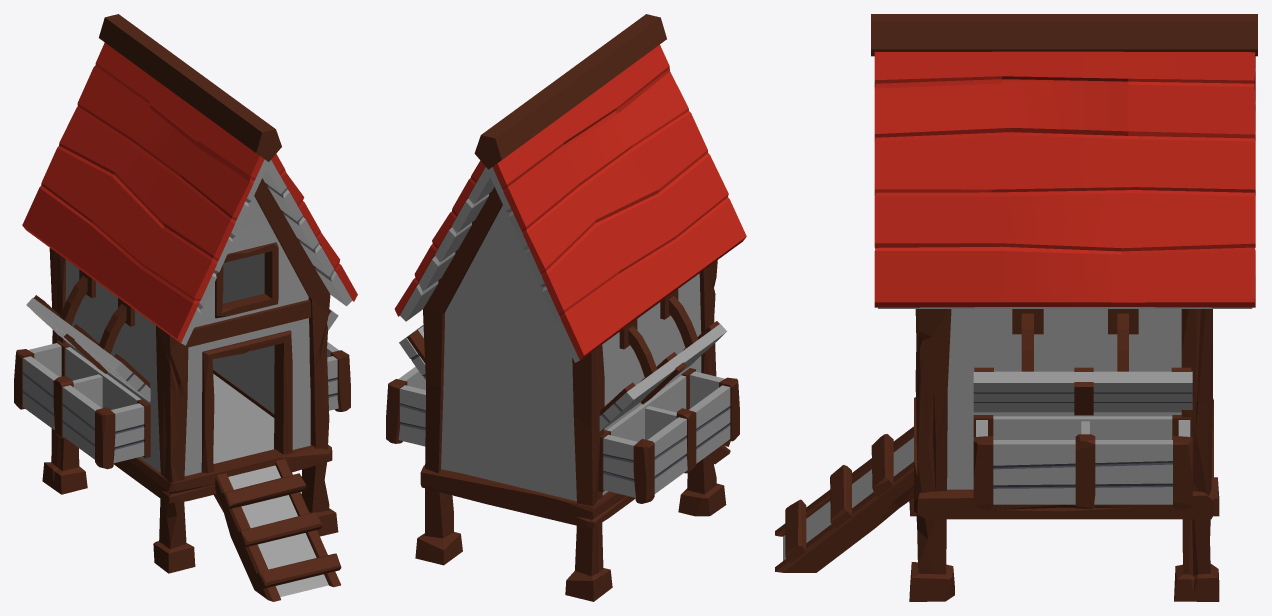
Rendered from Henhouse.001_1.fbx.
The picture shows the model from 3 angles, left to right: view 1: azimuth 30°, elevation 25°; view 2: azimuth 150°, elevation 25°; view 3: azimuth 270°, elevation 25°; orthographic projection. The views are drawn at different scales.
Parts seen in each view (by area): view 1: Henhouse.001_1; view 2: Henhouse.001_1; view 3: Henhouse.001_1.
Boxes of the visible parts, x1,y1,x2,y2 form: Henhouse.001_1: (14, 14, 357, 601); Henhouse.001_1: (386, 14, 746, 601); Henhouse.001_1: (775, 14, 1257, 601).
Bounding box in the file's own units: 58.06 × 97.2 × 79.7.
